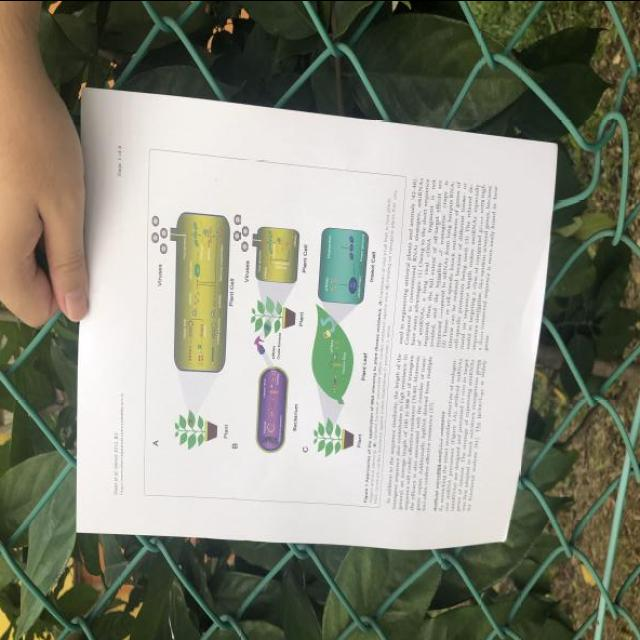kertas: (47, 87, 560, 568)
